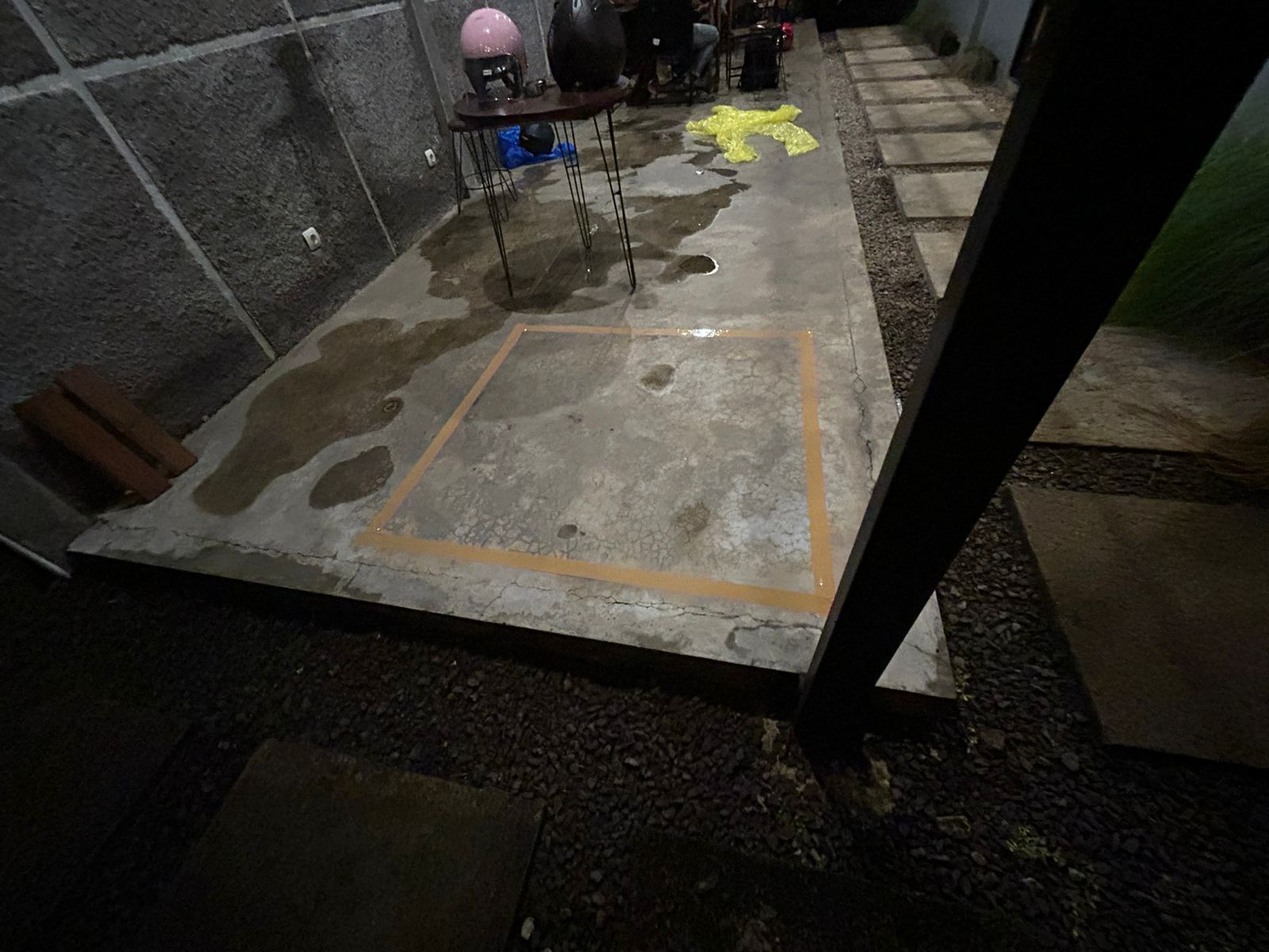floor marking: (355, 324, 832, 610)
